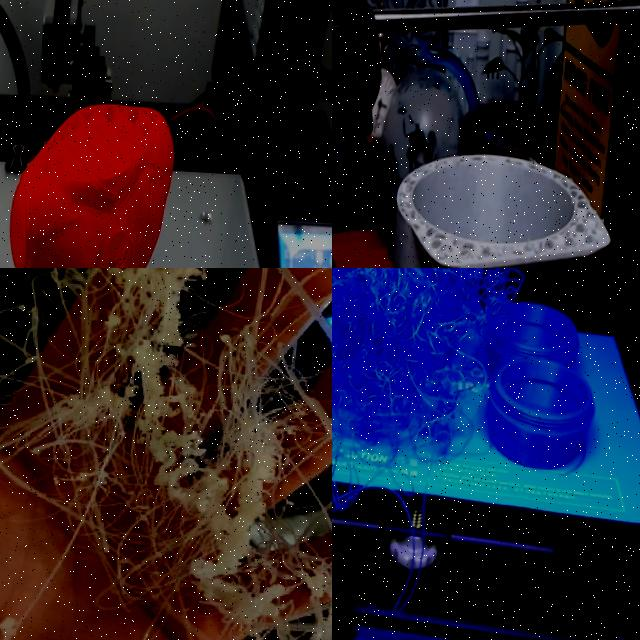spaghetti: (0, 268, 332, 640), (332, 268, 564, 494)
